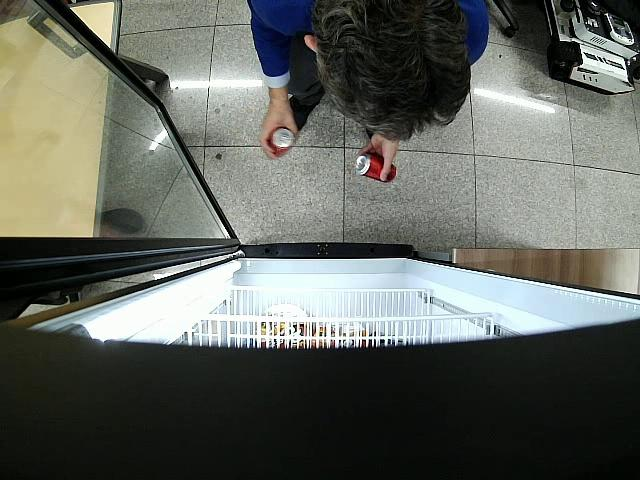00_hand: (260, 98, 298, 160), (359, 133, 399, 181)
11_cocaColaZero: (355, 154, 396, 184), (268, 127, 295, 158)
